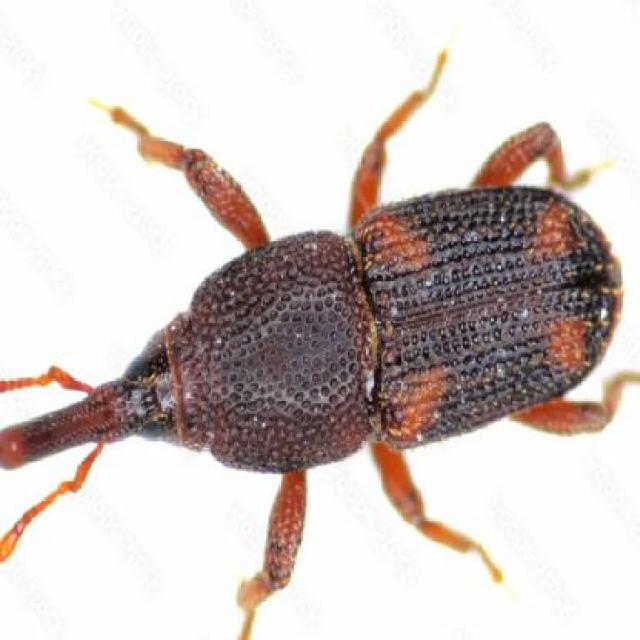rice-bug: (0, 155, 635, 546)
